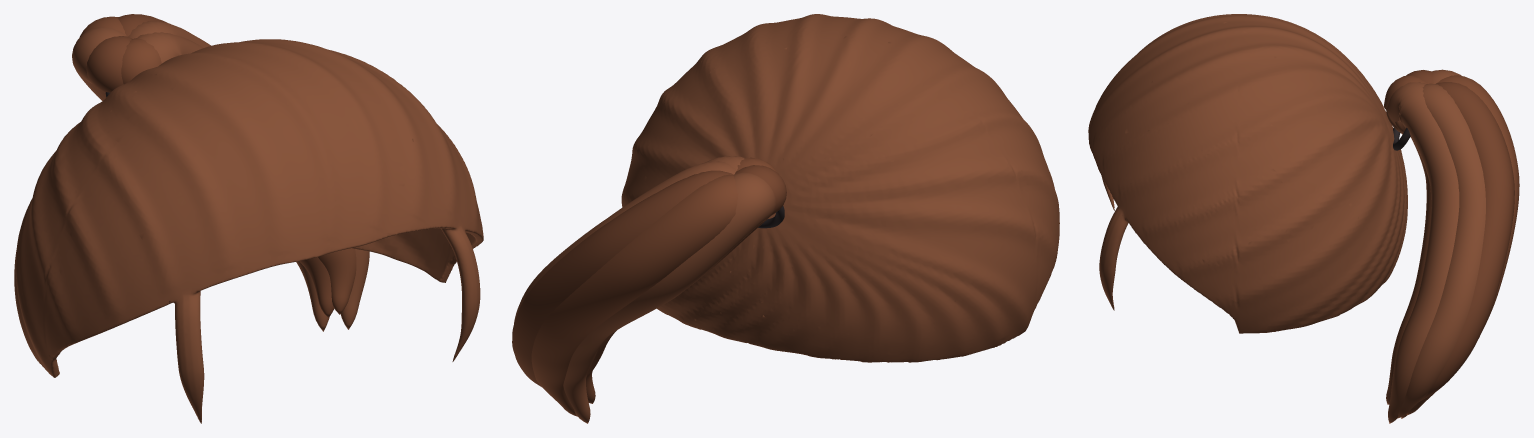
The model's file is Feminine-ponytail-hair.glb.
3 renders of one model, left to right at view 1: azimuth 30°, elevation 25°; view 2: azimuth 150°, elevation 25°; view 3: azimuth 270°, elevation 25°, orthographic. The views are drawn at different scales.
Parts seen in each view (by area): view 1: Hair / Pony continuous rooted flow211, Hair / Pony layered tail211 4, Hair / Pony layered tail211 5, Hair / Pony layered tail211 6, Hair / Pony layered tail211 3, Hair / Pony layered tail211 0, Hair / Pony layered tail211 1; view 2: Hair / Pony continuous rooted flow211, Hair / Pony layered tail211 2, Hair / Pony layered tail211 1, Hair / Pony layered tail211 3, Hair / Pony layered tail211 0, Hair / Pony layered tail211 4; view 3: Hair / Pony continuous rooted flow211, Hair / Pony layered tail211 0, Hair / Pony layered tail211 6, Hair / Pony layered tail211 1, Hair / Pony layered tail211 2, Hair / Pony layered tail211 5.
Part boxes in pixels (bbox=[...]): Hair / Pony continuous rooted flow211: bbox=[14, 39, 483, 423]; Hair / Pony layered tail211 4: bbox=[86, 36, 334, 317]; Hair / Pony layered tail211 5: bbox=[121, 38, 356, 314]; Hair / Pony layered tail211 6: bbox=[134, 32, 369, 329]; Hair / Pony layered tail211 3: bbox=[72, 27, 329, 331]; Hair / Pony layered tail211 0: bbox=[128, 21, 210, 47]; Hair / Pony layered tail211 1: bbox=[118, 14, 167, 36]; Hair / Pony continuous rooted flow211: bbox=[621, 14, 1059, 362]; Hair / Pony layered tail211 2: bbox=[531, 174, 737, 416]; Hair / Pony layered tail211 1: bbox=[512, 170, 733, 386]; Hair / Pony layered tail211 3: bbox=[563, 172, 775, 423]; Hair / Pony layered tail211 0: bbox=[514, 161, 736, 323]; Hair / Pony layered tail211 4: bbox=[586, 165, 786, 403]; Hair / Pony continuous rooted flow211: bbox=[1088, 14, 1407, 333]; Hair / Pony layered tail211 0: bbox=[1395, 83, 1485, 418]; Hair / Pony layered tail211 6: bbox=[1386, 82, 1459, 423]; Hair / Pony layered tail211 1: bbox=[1419, 82, 1514, 401]; Hair / Pony layered tail211 2: bbox=[1406, 75, 1519, 415]; Hair / Pony layered tail211 5: bbox=[1384, 75, 1431, 404].
Size of the model in its own units: 1.02 by 0.8624 by 1.06.
